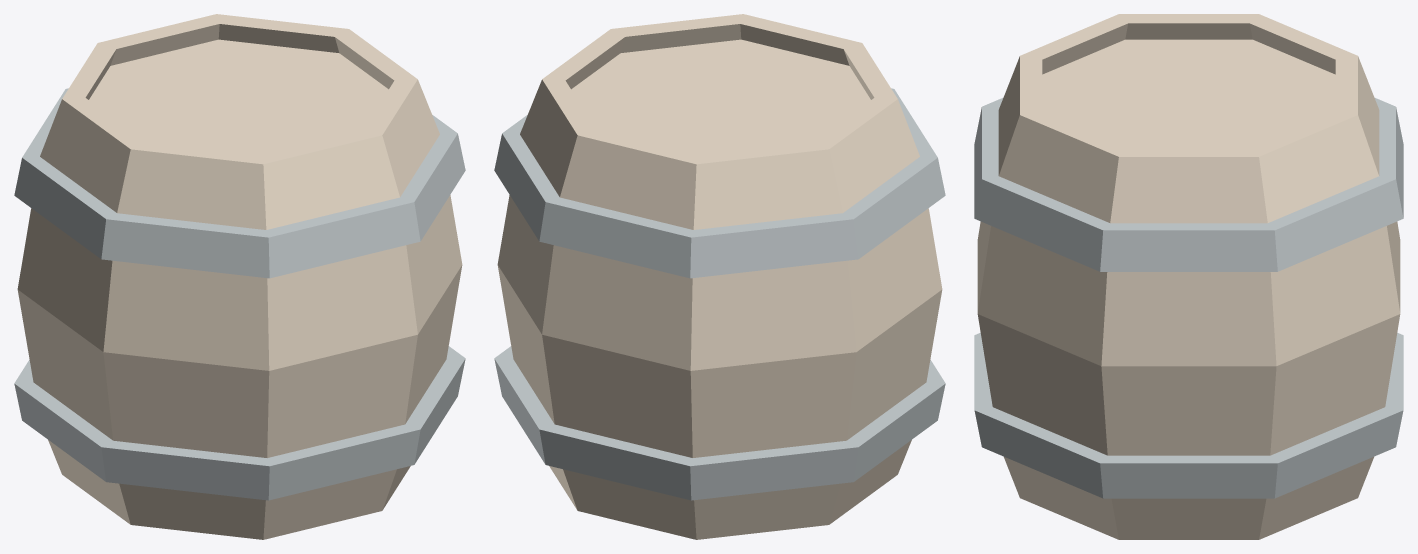
File: prop_floor_barrel.glb
The picture shows the model from 3 angles, left to right: view 1: azimuth 30°, elevation 25°; view 2: azimuth 150°, elevation 25°; view 3: azimuth 270°, elevation 25°; orthographic projection.
Visible parts, largest first — view 1: prop_floor_barrel; view 2: prop_floor_barrel; view 3: prop_floor_barrel.
Part boxes in pixels (x1=…): prop_floor_barrel: x1=14, y1=14, x2=465, y2=539; prop_floor_barrel: x1=494, y1=14, x2=945, y2=539; prop_floor_barrel: x1=974, y1=14, x2=1403, y2=539.
Size of the model in its own units: 1.01 by 1 by 1.01.
